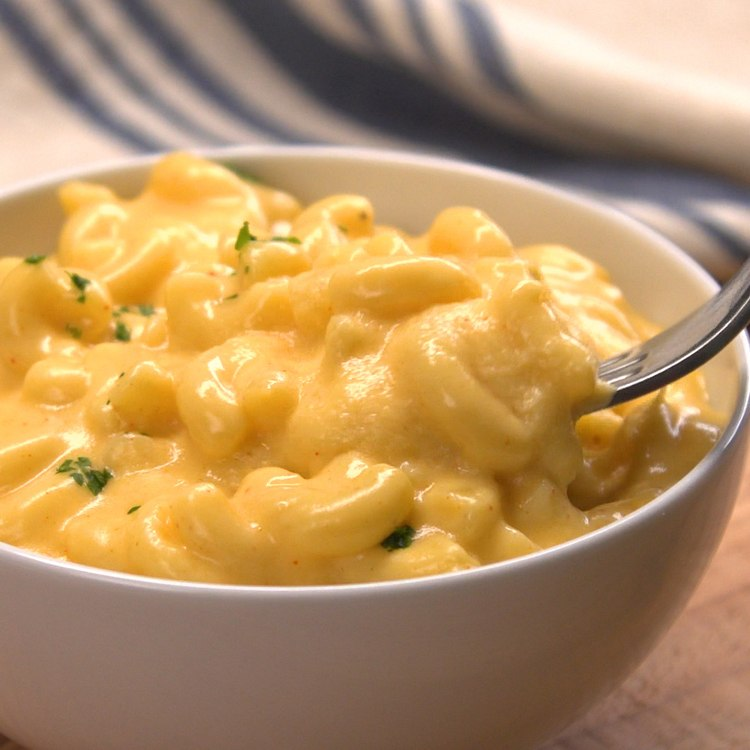macncheese: (13, 151, 616, 680)
